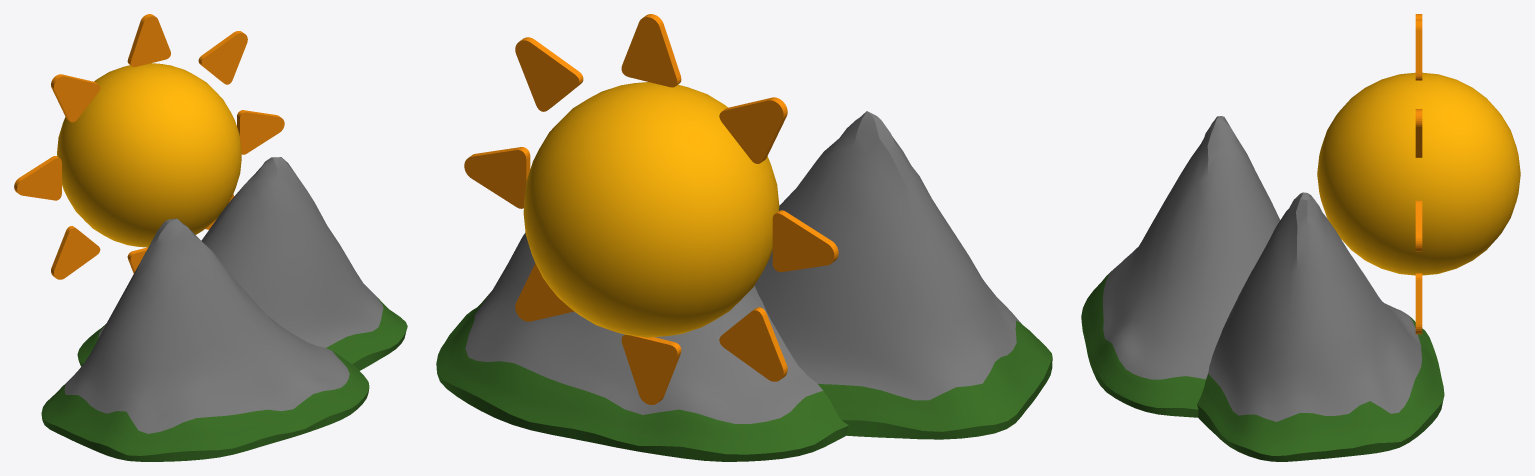
File: sunrise_over_mountains.glb
3 renders of one model, left to right at view 1: azimuth 30°, elevation 25°; view 2: azimuth 150°, elevation 25°; view 3: azimuth 270°, elevation 25°, orthographic. The views are drawn at different scales.
Visible parts, largest first — view 1: Cube.525, Cube.527, Cube.526; view 2: Cube.527, Cube.525, Cube.526; view 3: Cube.526, Cube.527, Cube.525.
Boxes of the visible parts, box(x1,y1,x2,y2) form: Cube.525: box(41, 218, 369, 461); Cube.527: box(14, 14, 284, 279); Cube.526: box(77, 157, 407, 370); Cube.527: box(464, 14, 838, 404); Cube.525: box(754, 111, 1052, 439); Cube.526: box(436, 232, 848, 461); Cube.526: box(1197, 192, 1444, 461); Cube.527: box(1317, 14, 1520, 334); Cube.525: box(1081, 116, 1280, 417).
Bounding box in the file's own units: 2.5 × 1.99 × 2.33.
Materials: 1 (1 with a texture image).
